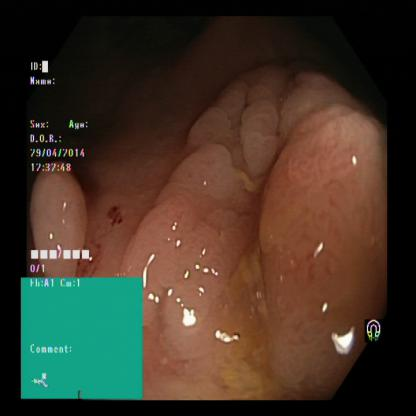Labels: (20, 249, 142, 399), (30, 60, 91, 175), (360, 313, 393, 346)
Polyps: (32, 181, 90, 248), (243, 96, 284, 180)
